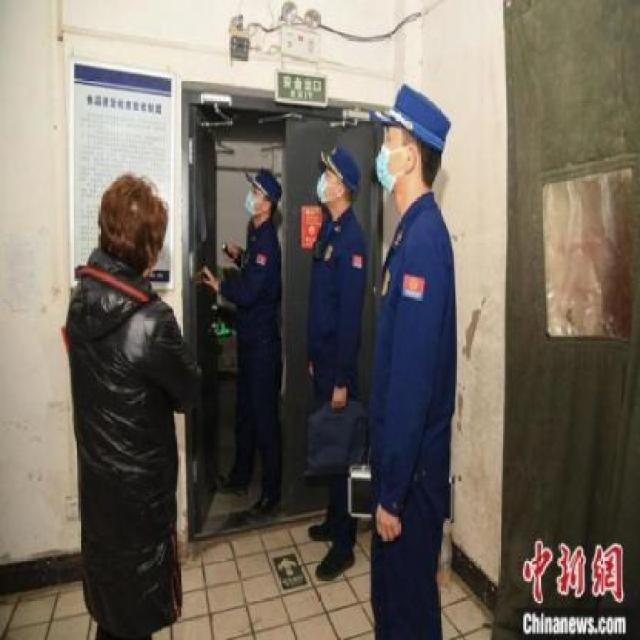exit_sign: (271, 64, 333, 104)
